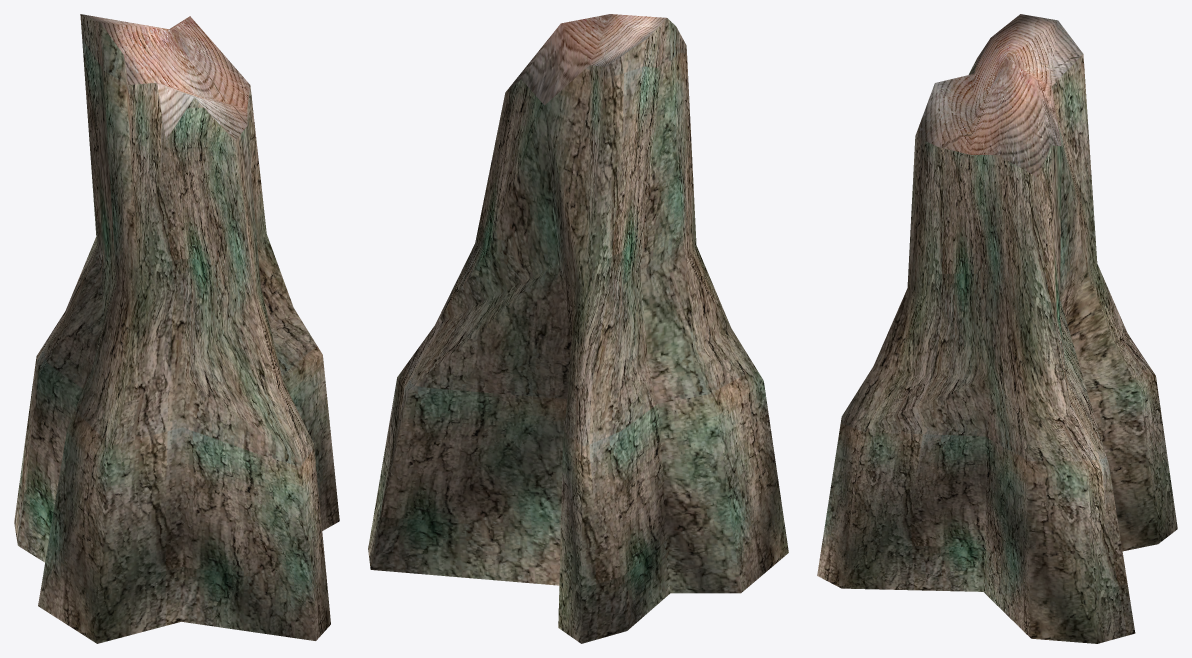
Rendered from decd_dogwoodstump_l0.fbx.
3 renders of one model, left to right at view 1: azimuth 30°, elevation 25°; view 2: azimuth 150°, elevation 25°; view 3: azimuth 270°, elevation 25°, orthographic. The views are drawn at different scales.
Parts seen in each view (by area): view 1: mesh_node; view 2: mesh_node; view 3: mesh_node.
Boxes of the visible parts, <box> form: mesh_node: <box>14,14,339,643</box>; mesh_node: <box>368,14,788,643</box>; mesh_node: <box>817,14,1177,643</box>.
Size of the model in its own units: 0.4417 by 0.7308 by 0.4638.
